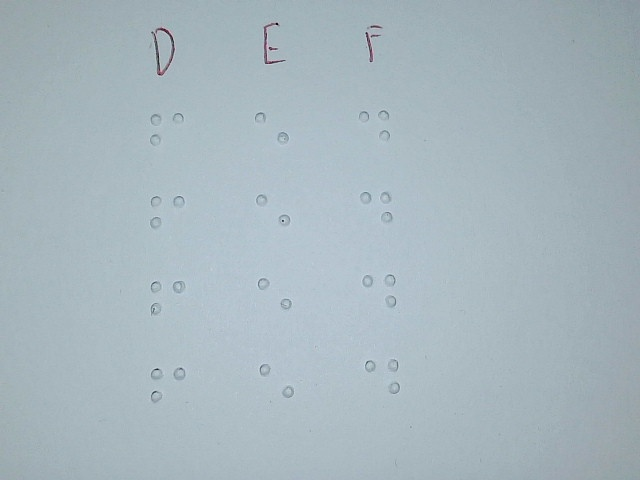D: (356, 99, 393, 166), (357, 178, 394, 245), (360, 261, 397, 328), (363, 345, 400, 412)
E: (251, 98, 294, 173), (252, 180, 295, 255), (254, 266, 297, 341), (255, 351, 298, 426)
F: (147, 102, 187, 174), (148, 183, 188, 255), (148, 269, 188, 341), (148, 355, 188, 427)
